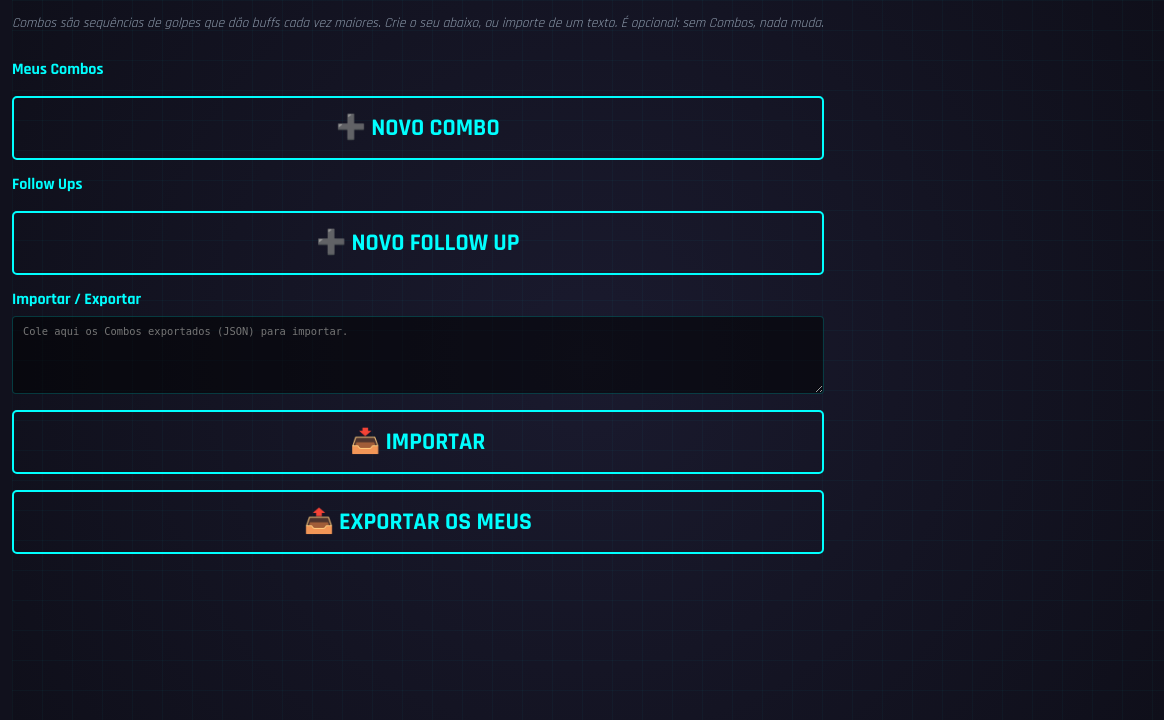
Test case: CombosPanel - importar e exportar › texto inválido não importa e mostra o aviso
Type "oi" into the text box named "Texto dos Combos (JSON)" at {"x": 418, "y": 355}, box [12,316,824,394]
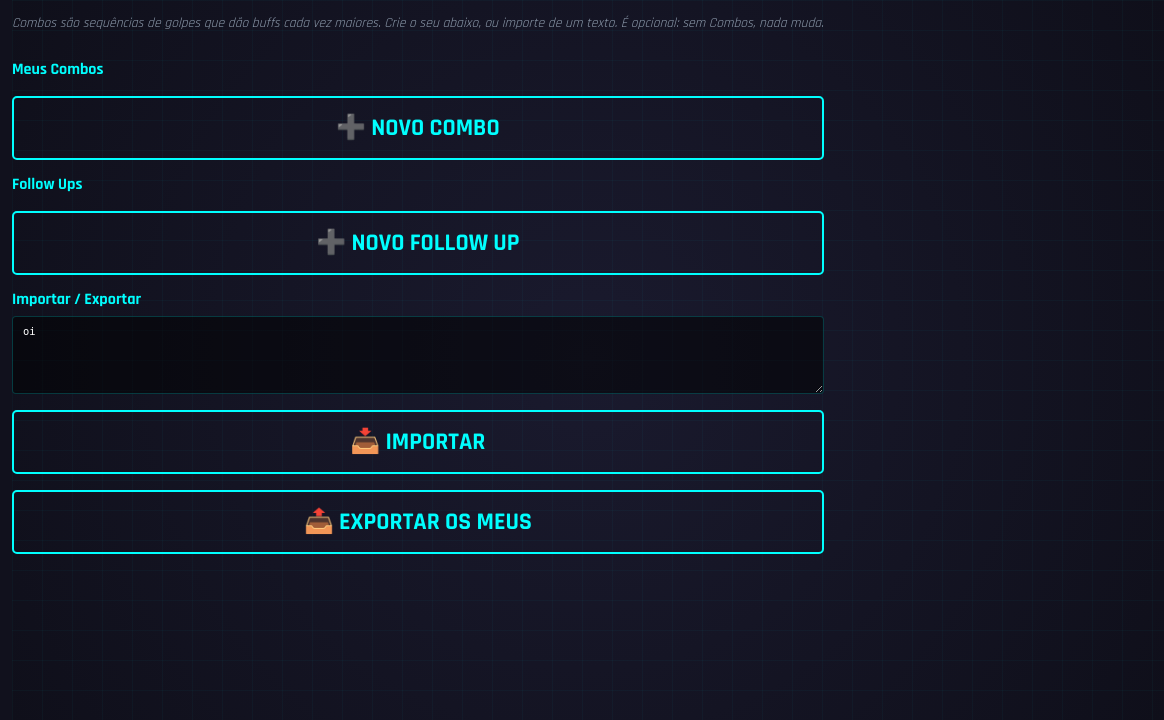
Click the button "📥 Importar" at {"x": 418, "y": 442}, box [12,410,824,474]
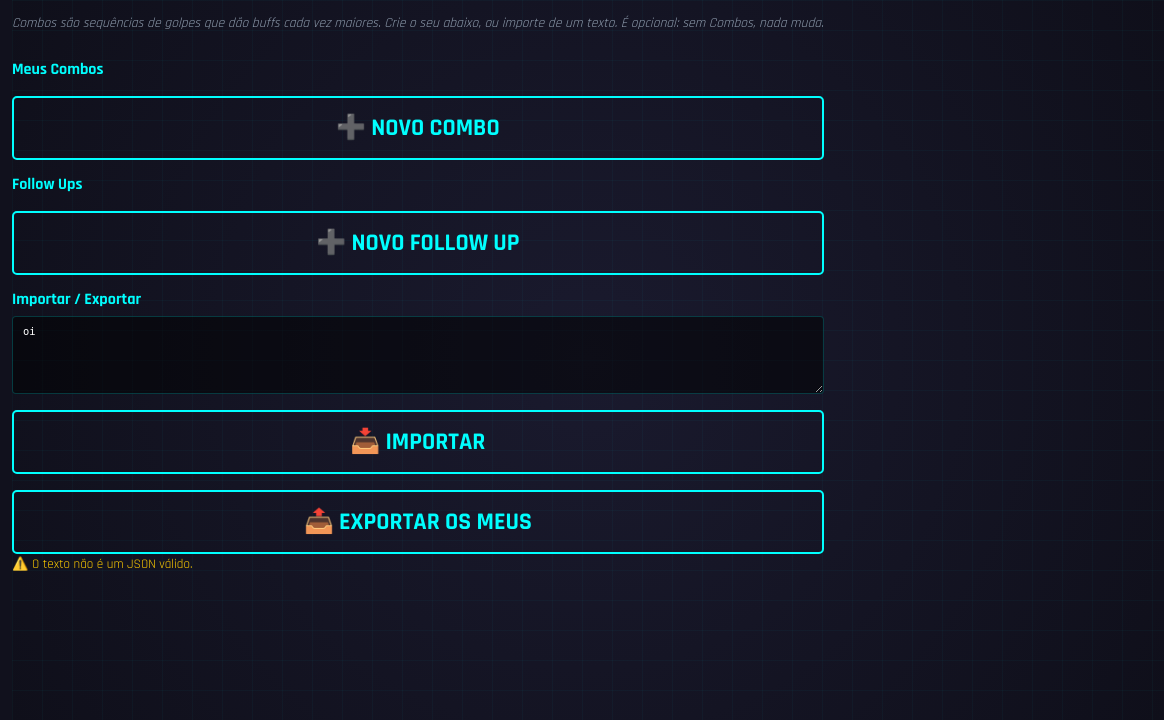
Now the text "⚠️ O texto não é um JSON válido." is shown, box [12,556,192,573]
